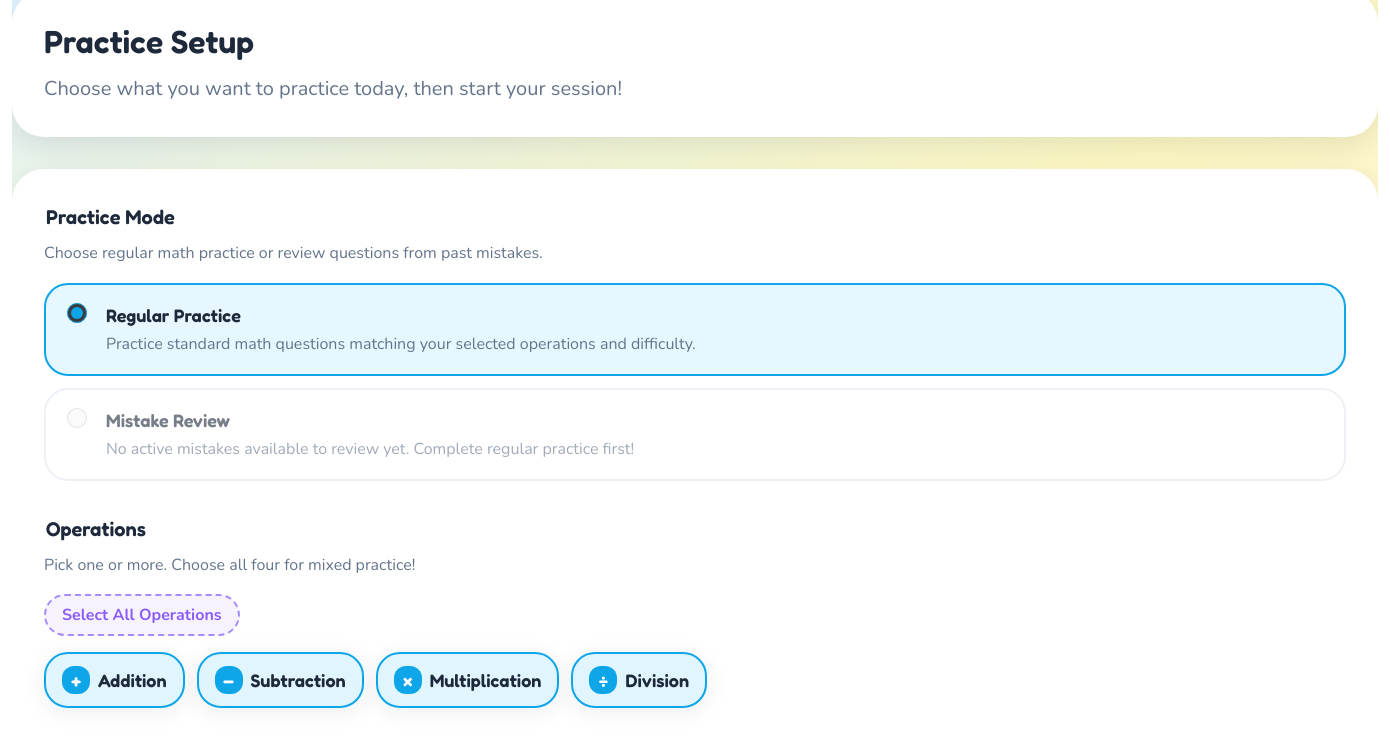
Scenario: PracticeSetupPage › disables start when no operations are selected
Click the button "Select All Operations": x=142, y=615 44,594 -> 240,636
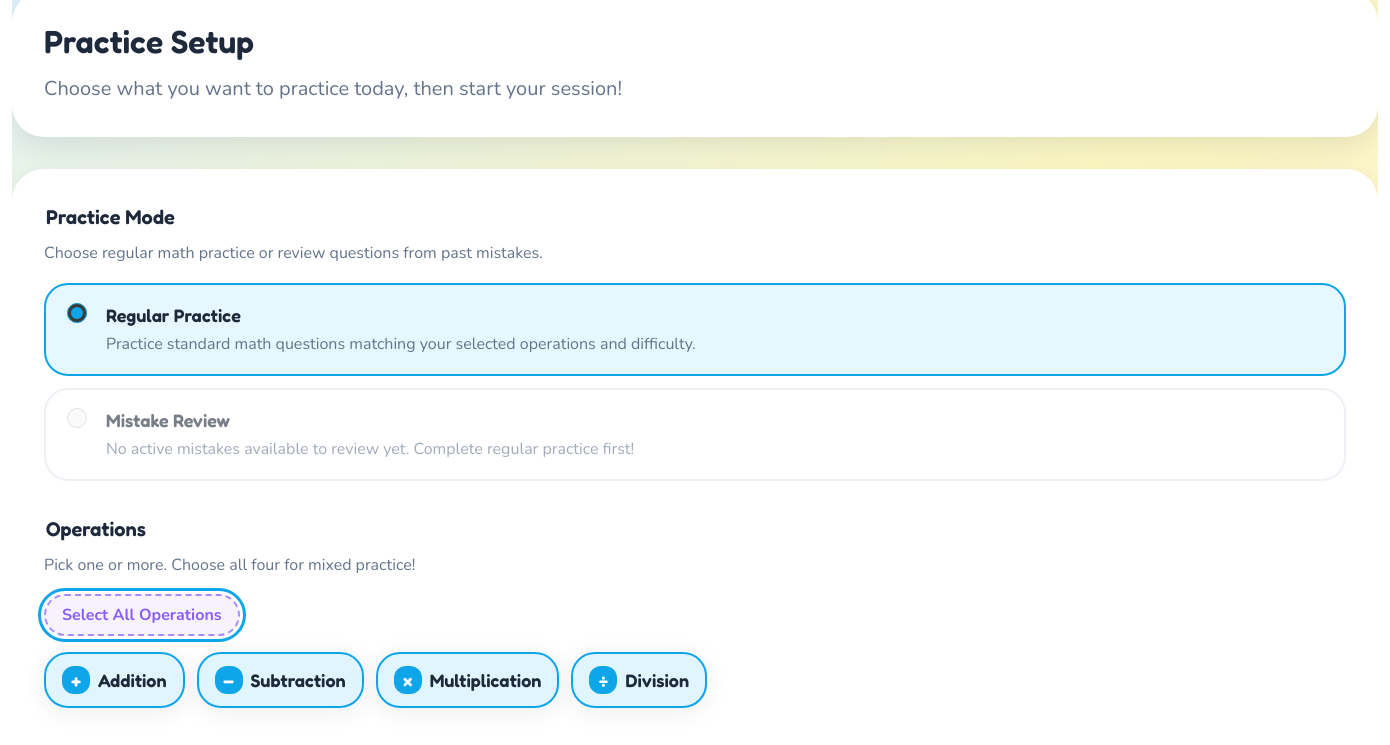
Click the button "+ Addition": x=114, y=680 44,652 -> 184,708
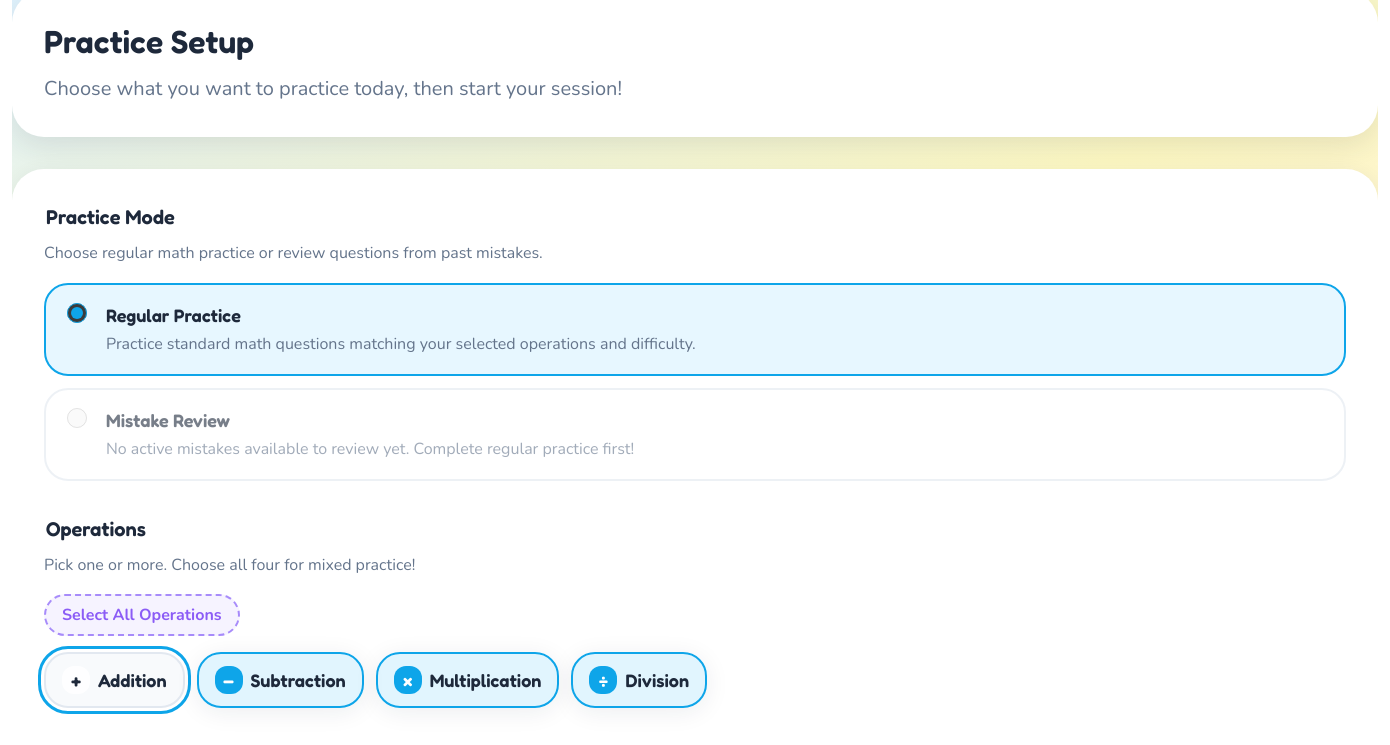
Click the button "− Subtraction": x=280, y=680 196,652 -> 364,708
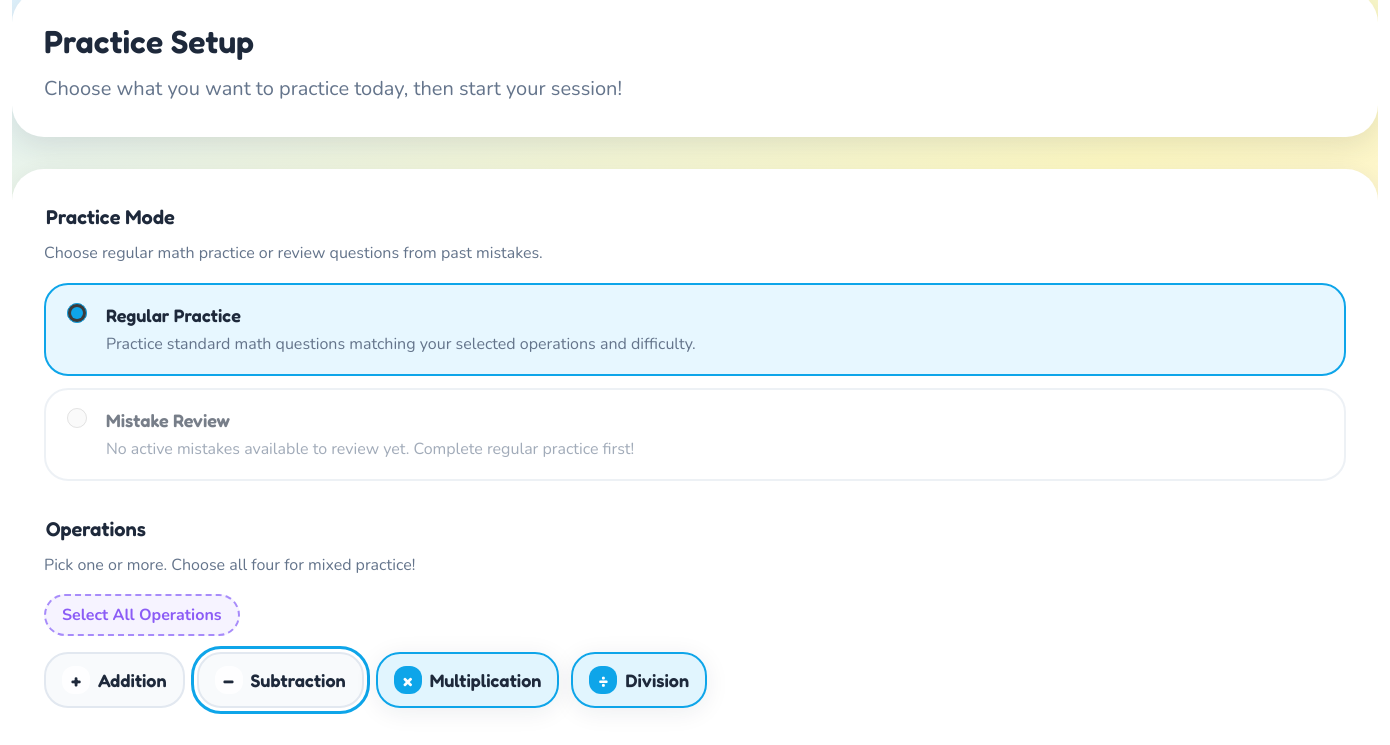
Click the button "× Multiplication": x=468, y=680 376,652 -> 559,708
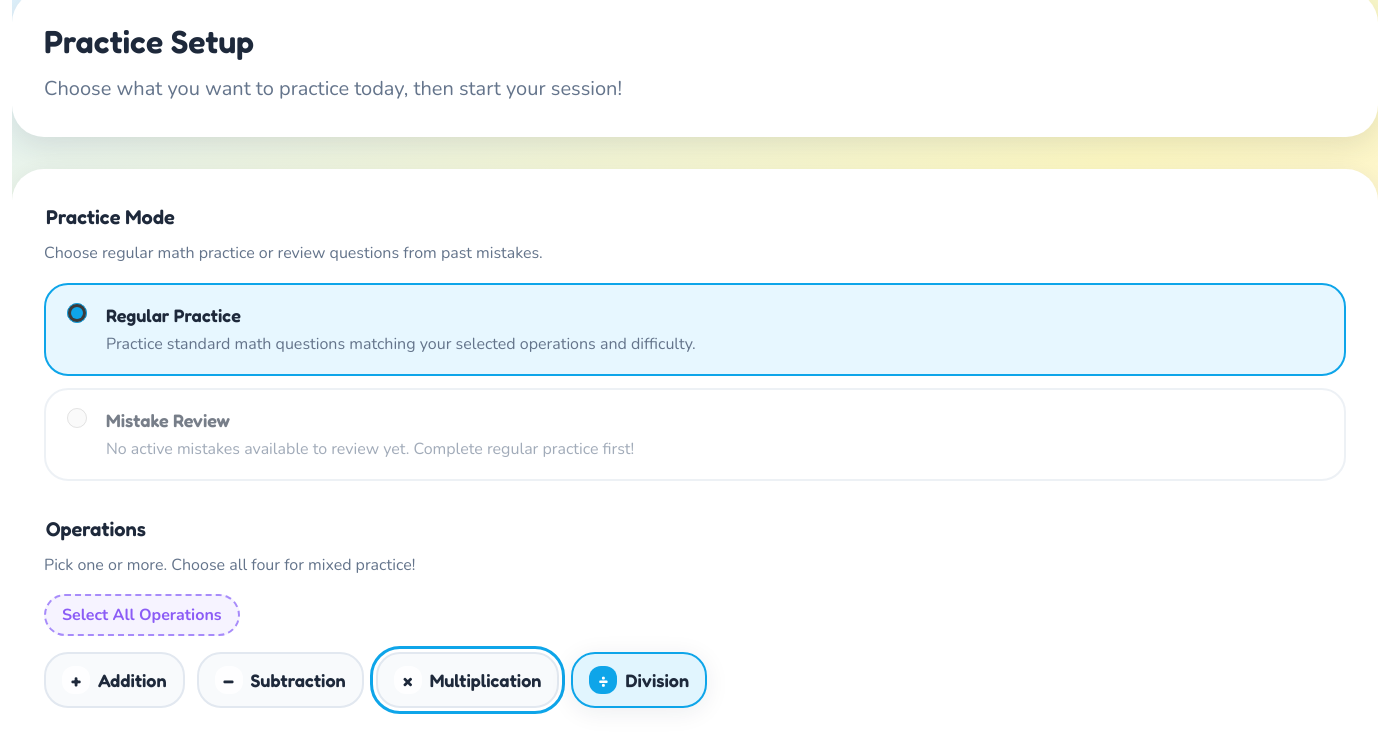
Click the button "÷ Division": x=639, y=680 571,652 -> 707,708
(page scrolled)
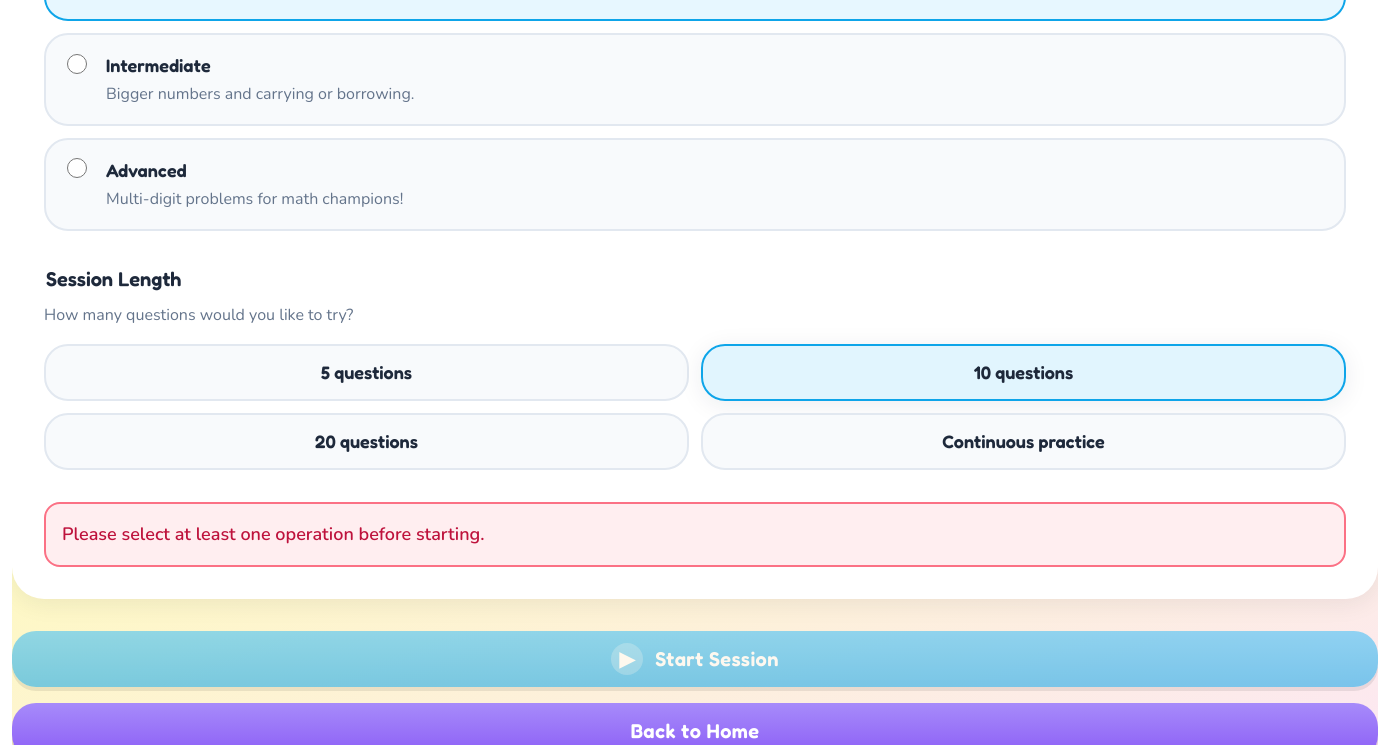
Check: the button "▶ Start Session" is disabled, box 12,631 -> 1378,687
Check: the message shows "Please select at least one operation", box 62,522 -> 484,546
